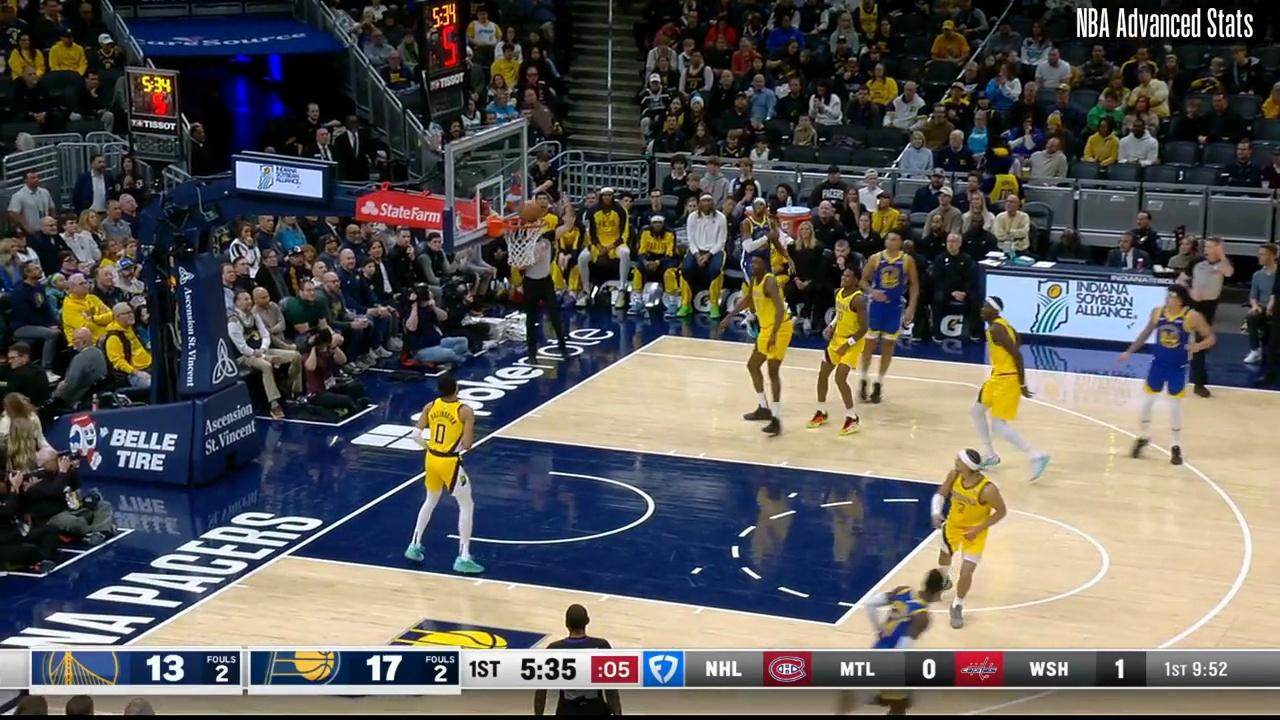basketball: (514, 199, 543, 226)
